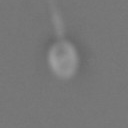normal: (44, 1, 70, 37)
